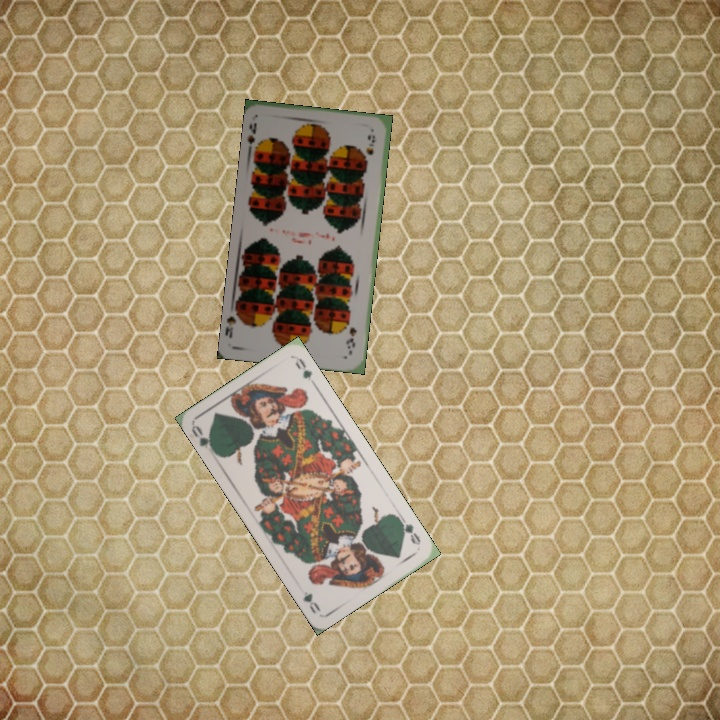GO: (187, 421, 219, 457), (395, 512, 423, 547)
S9: (244, 119, 264, 156), (343, 323, 359, 351)
